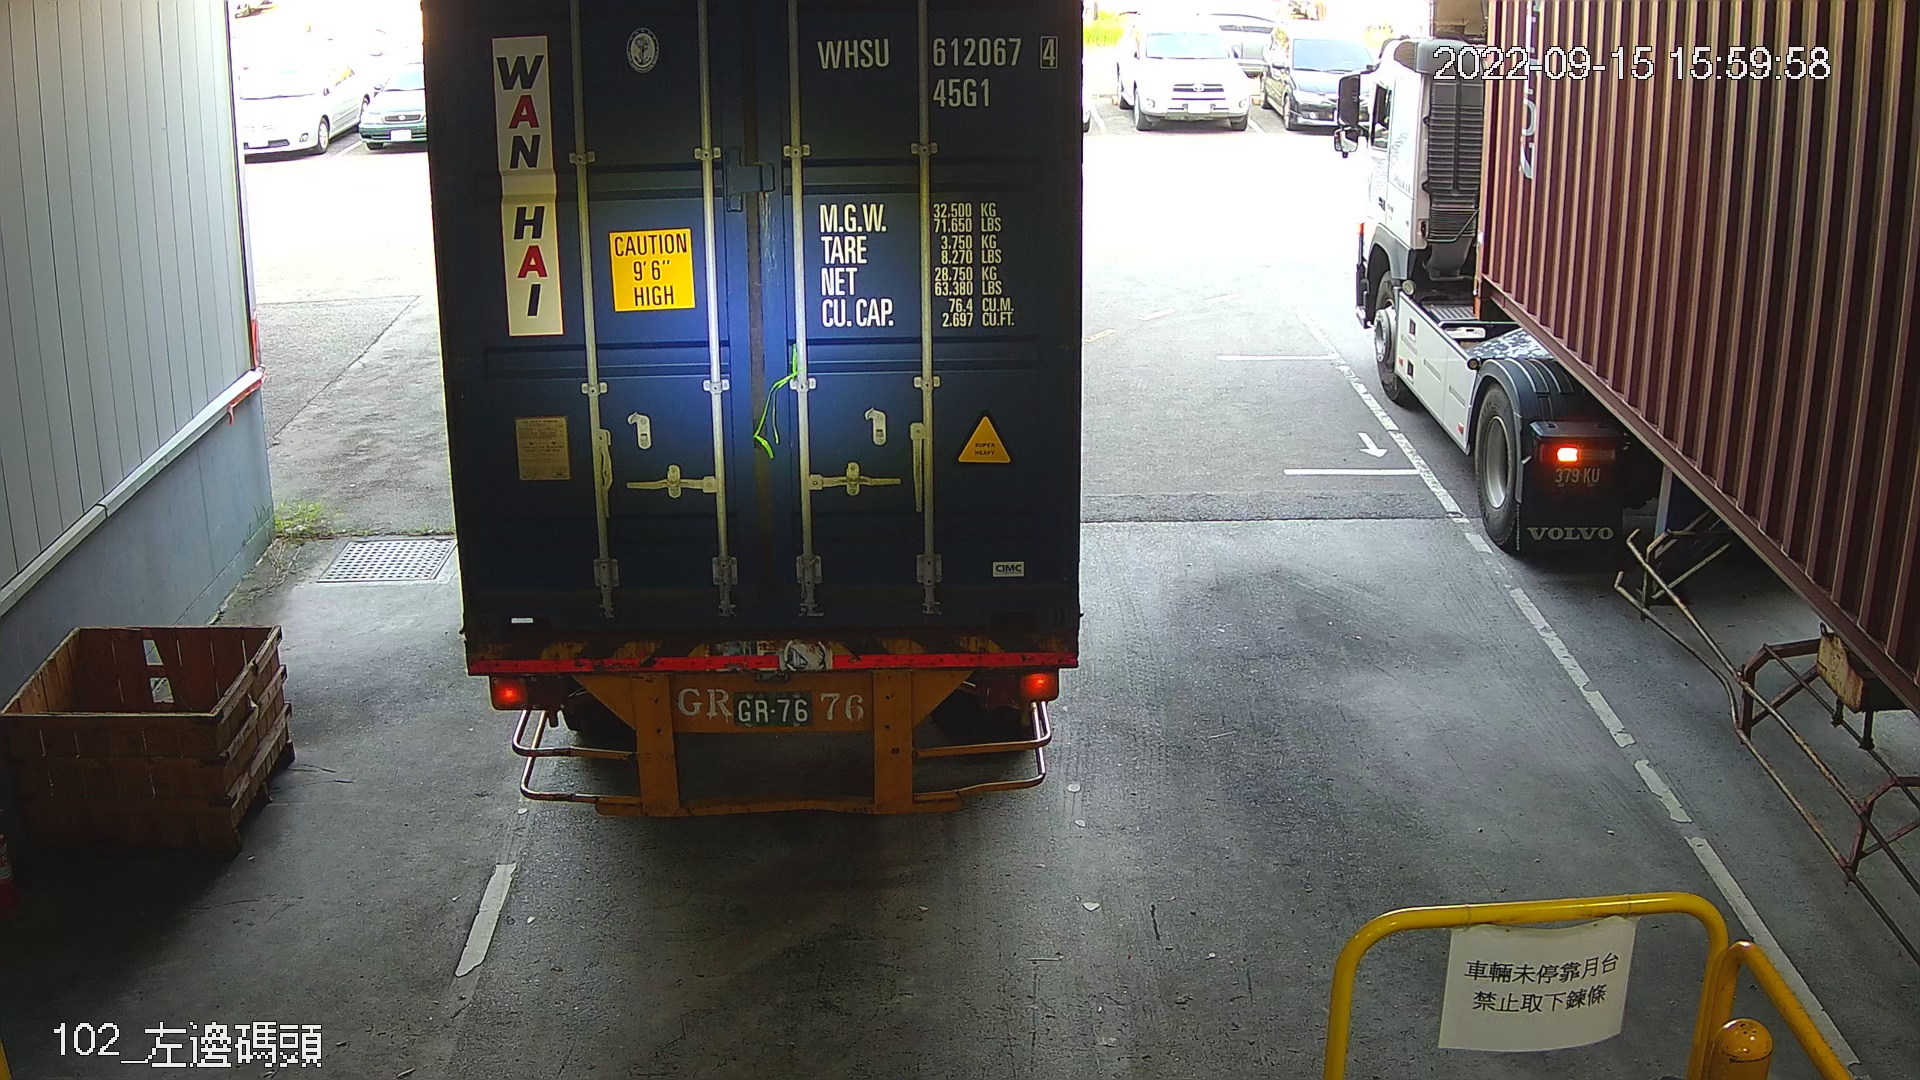container: (806, 26, 1069, 116)
